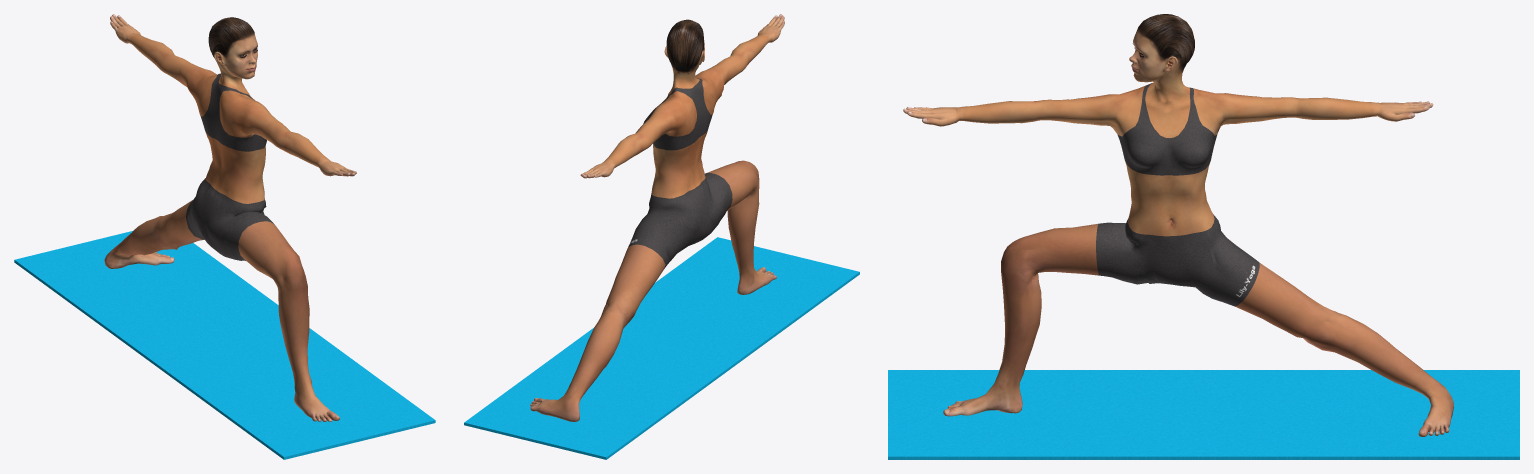
File: virabhadrasana_ii.glb
3 renders of one model, left to right at view 1: azimuth 30°, elevation 25°; view 2: azimuth 150°, elevation 25°; view 3: azimuth 270°, elevation 25°, orthographic. The views are drawn at different scales.
Parts seen in each view (by area): view 1: Mat-one-piece_jpg-material, Lily_Texture01_06_2016_jpg-material; view 2: Mat-one-piece_jpg-material, Lily_Texture01_06_2016_jpg-material; view 3: Mat-one-piece_jpg-material, Lily_Texture01_06_2016_jpg-material.
Boxes of the visible parts, x1,y1,x2,y2 form: Mat-one-piece_jpg-material: (14, 231, 435, 459); Lily_Texture01_06_2016_jpg-material: (104, 14, 356, 421); Mat-one-piece_jpg-material: (464, 237, 859, 459); Lily_Texture01_06_2016_jpg-material: (530, 14, 784, 421); Mat-one-piece_jpg-material: (888, 370, 1519, 459); Lily_Texture01_06_2016_jpg-material: (903, 14, 1453, 436).
Size of the model in its own units: 2 by 4.26 by 6.17.
Materials: 3 (2 with a texture image).
